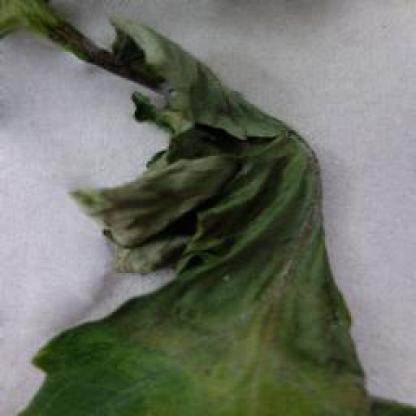bad leaf: (0, 0, 415, 415)
